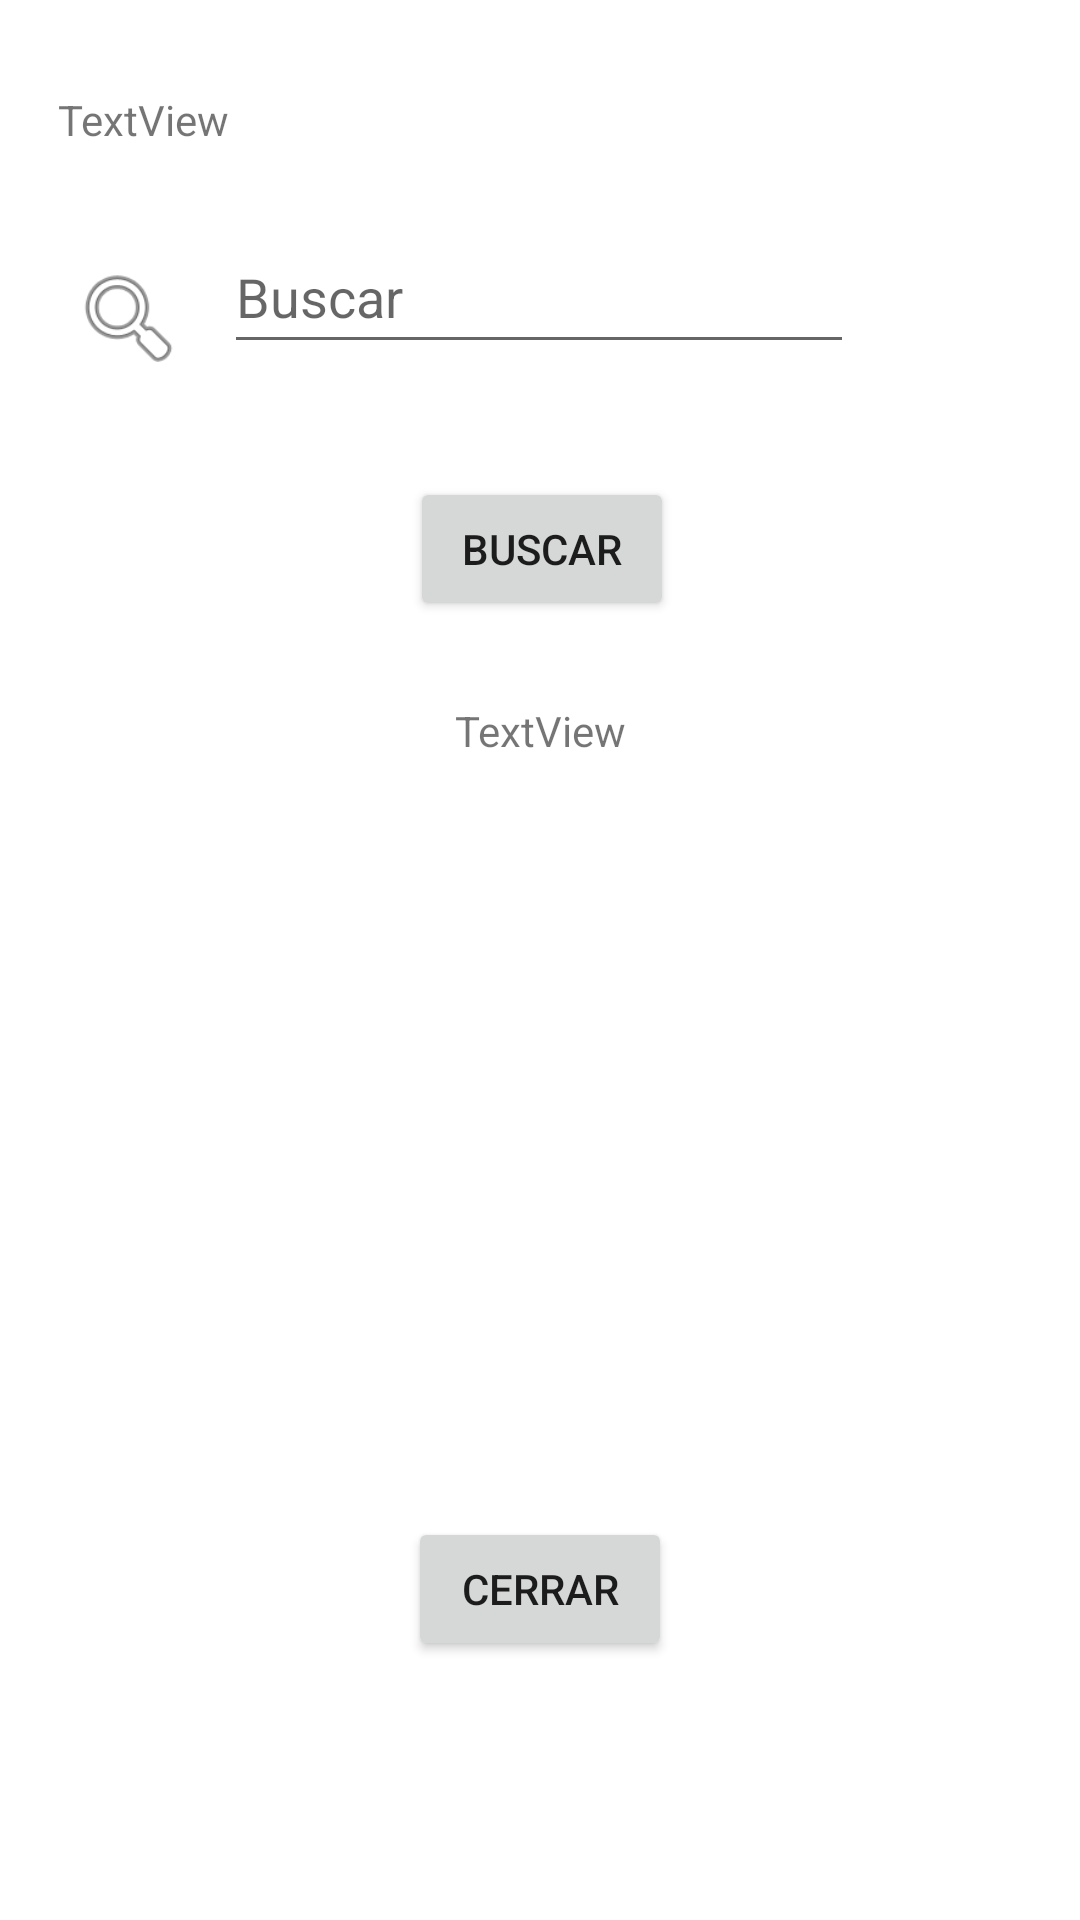

Icons on this 1080px×1920px Android screen, each with its box as detection(x1, y1, x2, y2):
search: detection(85, 275, 172, 362)
